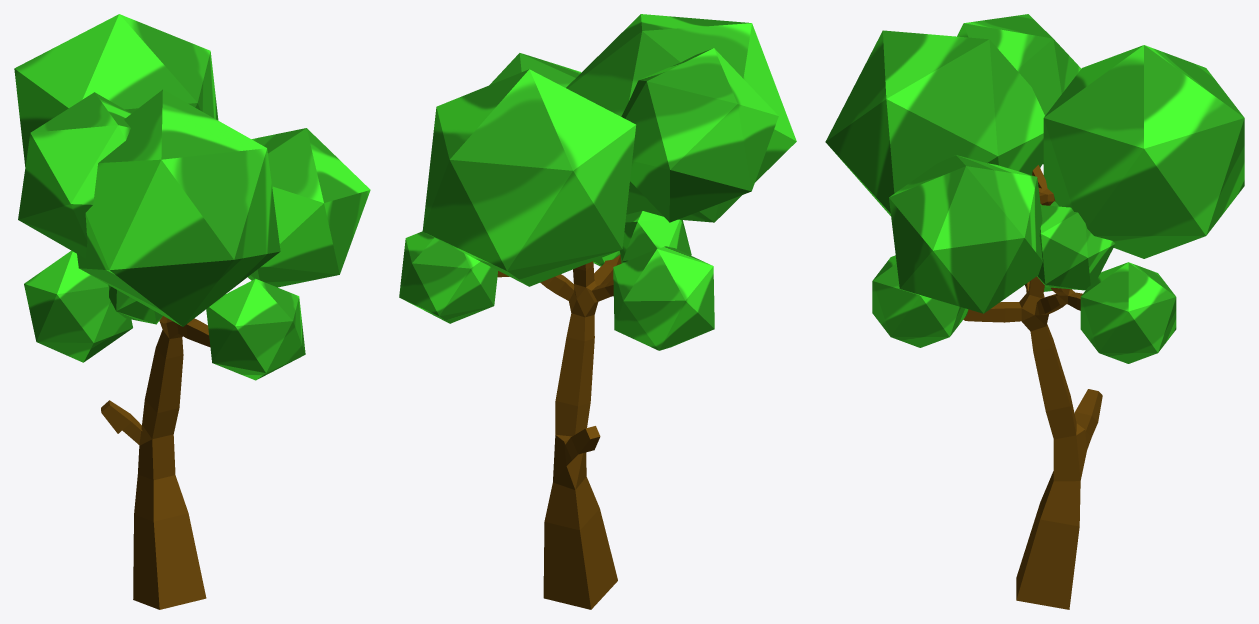
Rendered from baum1.fbx.
3 renders of one model, left to right at view 1: azimuth 30°, elevation 25°; view 2: azimuth 150°, elevation 25°; view 3: azimuth 270°, elevation 25°, orthographic.
Visible parts, largest first — view 1: blätter, stamm; view 2: blätter, stamm; view 3: blätter, stamm.
Part boxes in pixels (x1,y1,x2,y2): blätter: (14, 14, 370, 380); stamm: (101, 316, 210, 609); blätter: (399, 14, 796, 350); stamm: (497, 254, 621, 609); blätter: (825, 14, 1244, 363); stamm: (963, 165, 1102, 609).
Size of the model in its own units: 132 by 228 by 156.
